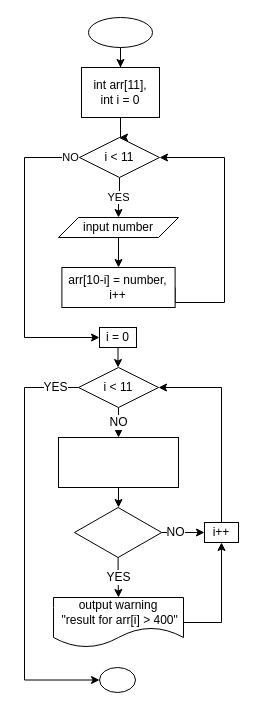
Image size: 256x710. Some labels were removed from this diagram. The centre of each missing label's shape, as x and y in pixels:
"End" goes at (117,679).
"result = sqrt(fabs(arr[i])) + 5 * pow( arr[i] , 3)" goes at (118,462).
"result > 400" goes at (118,532).
"start" goes at (120,32).
